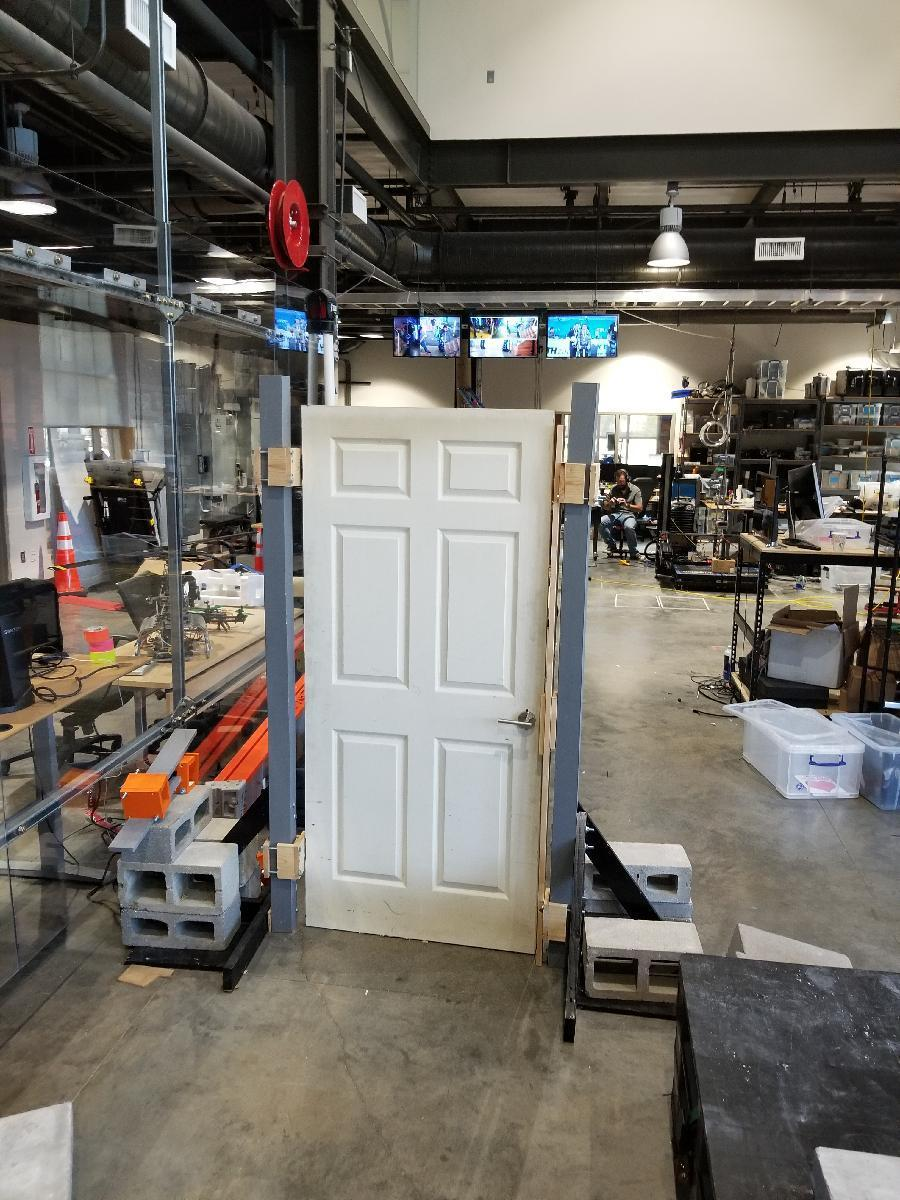door: (296, 400, 552, 956)
handle: (488, 708, 542, 735)
